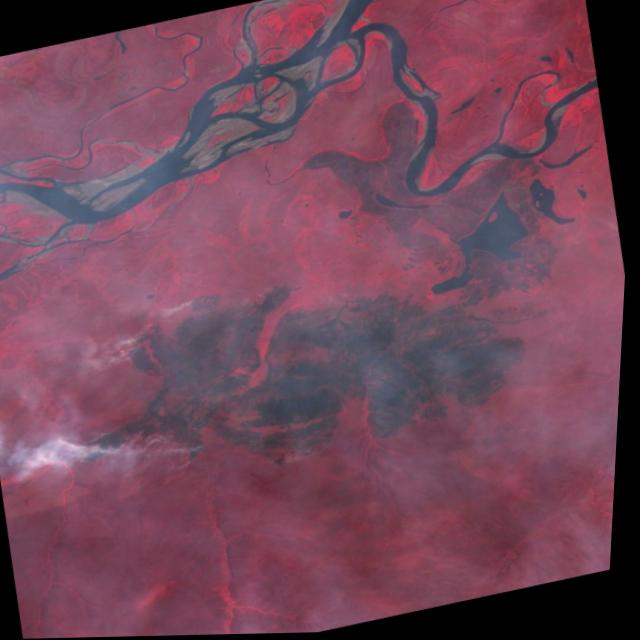fire: (41, 279, 267, 498)
